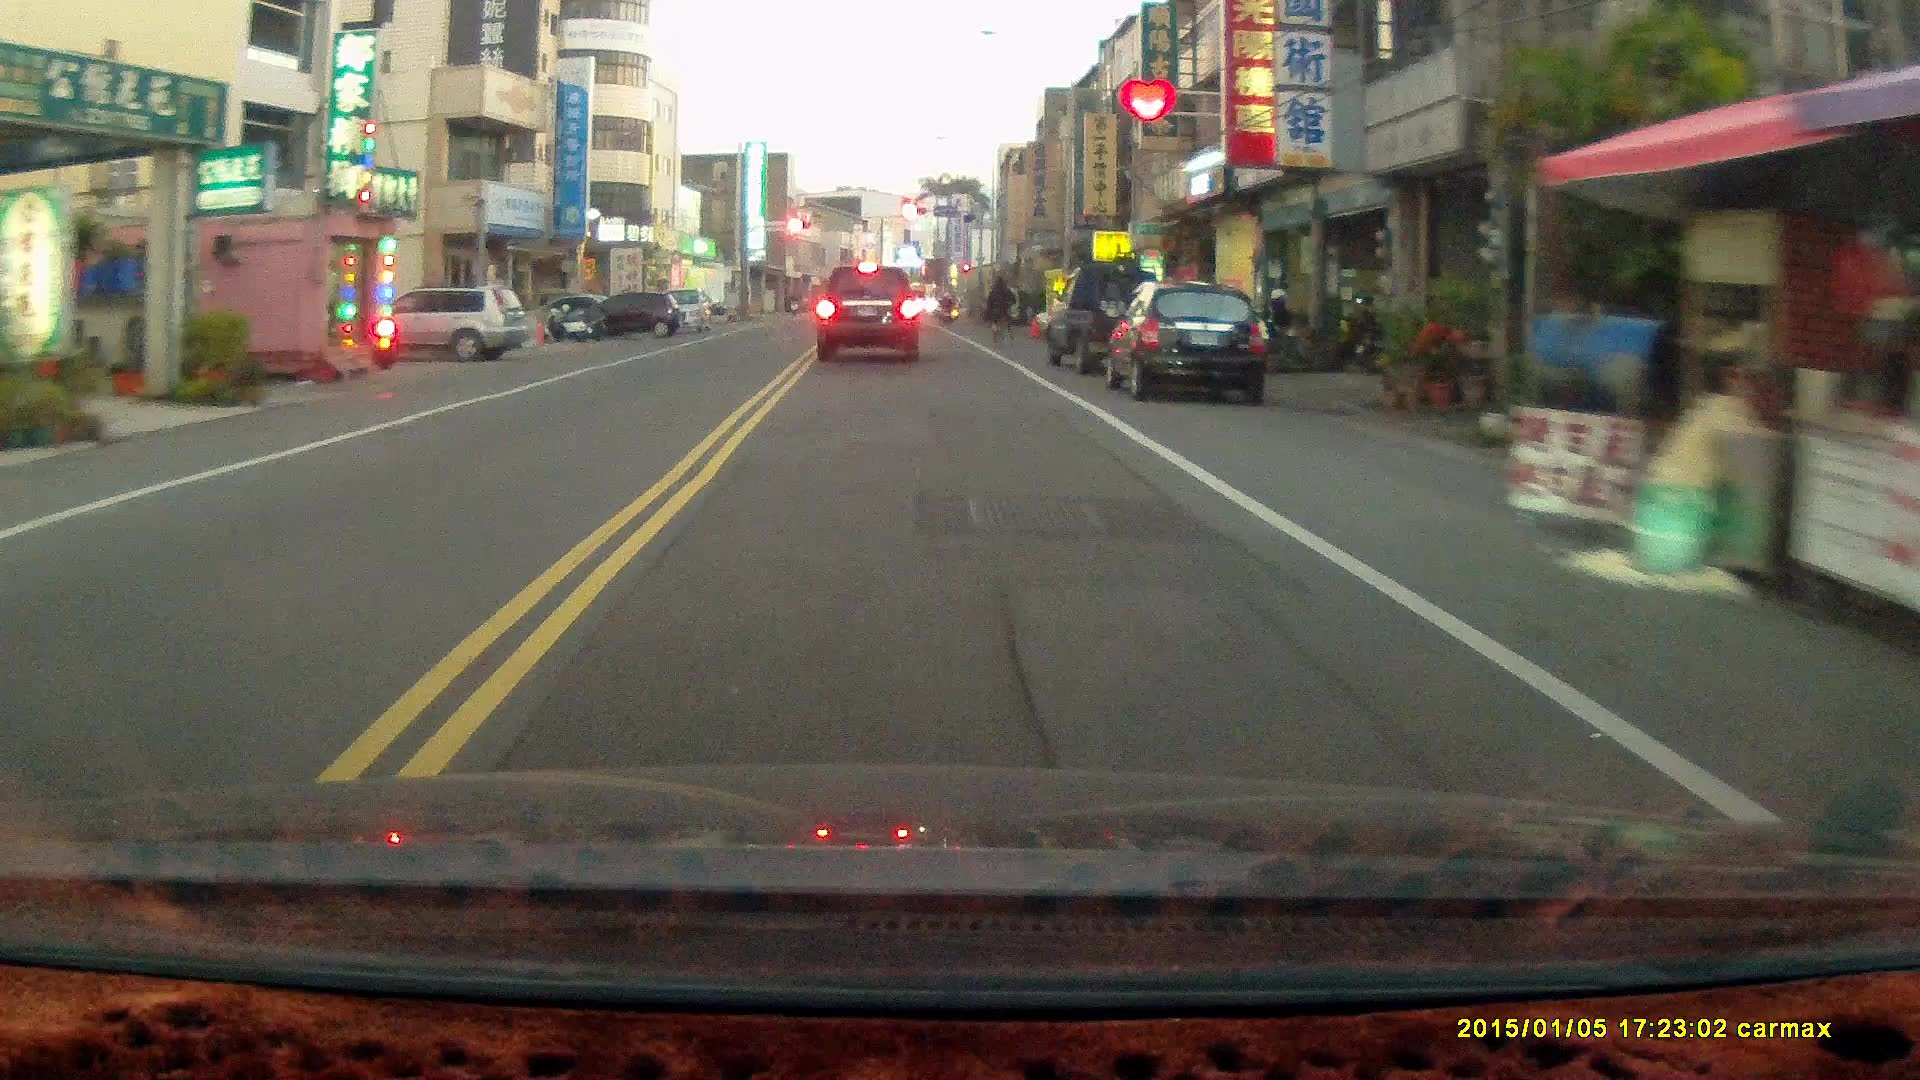rider: (983, 274, 1015, 346)
vehicle: (1110, 281, 1275, 403), (337, 287, 528, 360), (815, 262, 923, 363), (560, 292, 684, 341)
